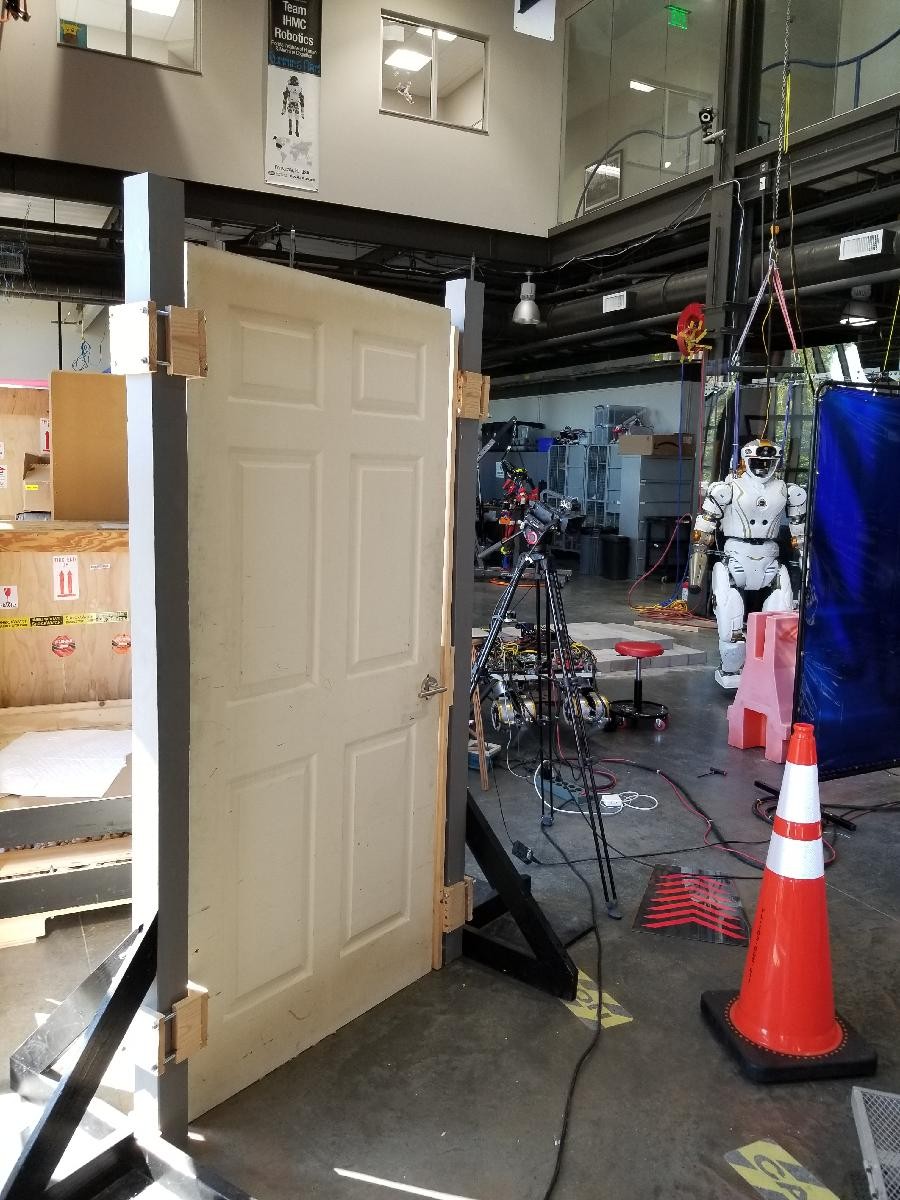door: (178, 233, 453, 1135)
doorHandle: (412, 672, 447, 707)
